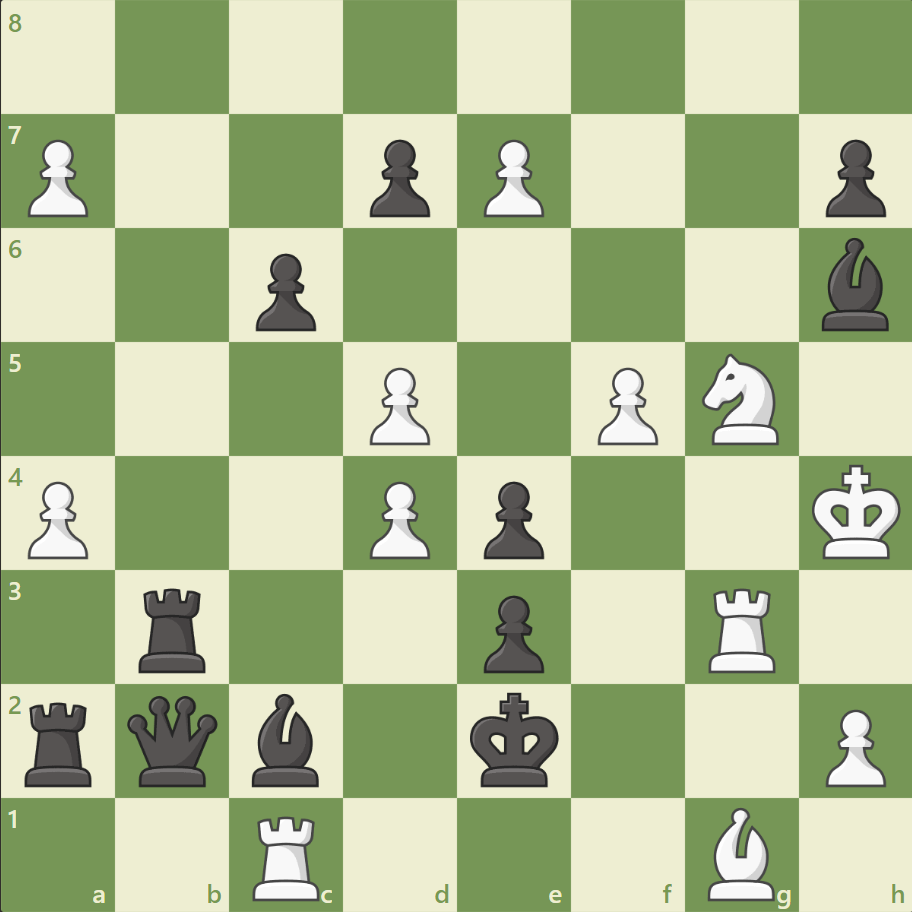B: (698, 801, 782, 904)
K: (806, 458, 906, 566)
N: (692, 348, 789, 450)
P: (20, 132, 95, 223), (474, 132, 549, 223), (20, 473, 95, 564), (361, 359, 435, 450), (588, 359, 662, 450), (361, 473, 435, 564), (815, 700, 889, 791)
R: (246, 806, 329, 904), (700, 579, 783, 676)
b: (812, 233, 896, 336), (244, 687, 328, 790)
k: (465, 685, 565, 793)
p: (247, 246, 322, 337), (474, 473, 549, 564), (474, 586, 549, 677), (361, 132, 435, 223), (815, 132, 889, 223)
q: (124, 690, 223, 789)
r: (19, 693, 102, 790), (133, 579, 215, 676)
